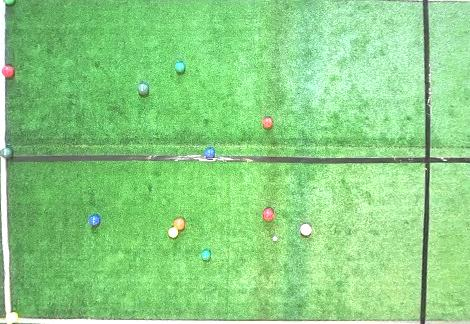blue: (88, 214, 101, 226), (204, 147, 215, 159)
green: (137, 82, 149, 95), (1, 147, 13, 158), (201, 249, 211, 261), (175, 62, 185, 73), (2, 1, 17, 5)
red: (1, 65, 14, 78), (173, 217, 185, 230), (262, 208, 274, 220), (300, 224, 312, 236), (262, 117, 273, 129)
vline: (420, 1, 470, 323), (0, 158, 12, 311), (0, 78, 7, 146), (0, 4, 7, 64)
white: (273, 236, 277, 241)
yellow: (5, 312, 19, 323), (168, 227, 179, 238)
